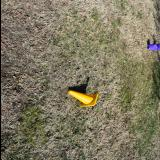cone: (66, 90, 98, 107)
cube: (146, 44, 156, 50), (156, 44, 160, 50)
